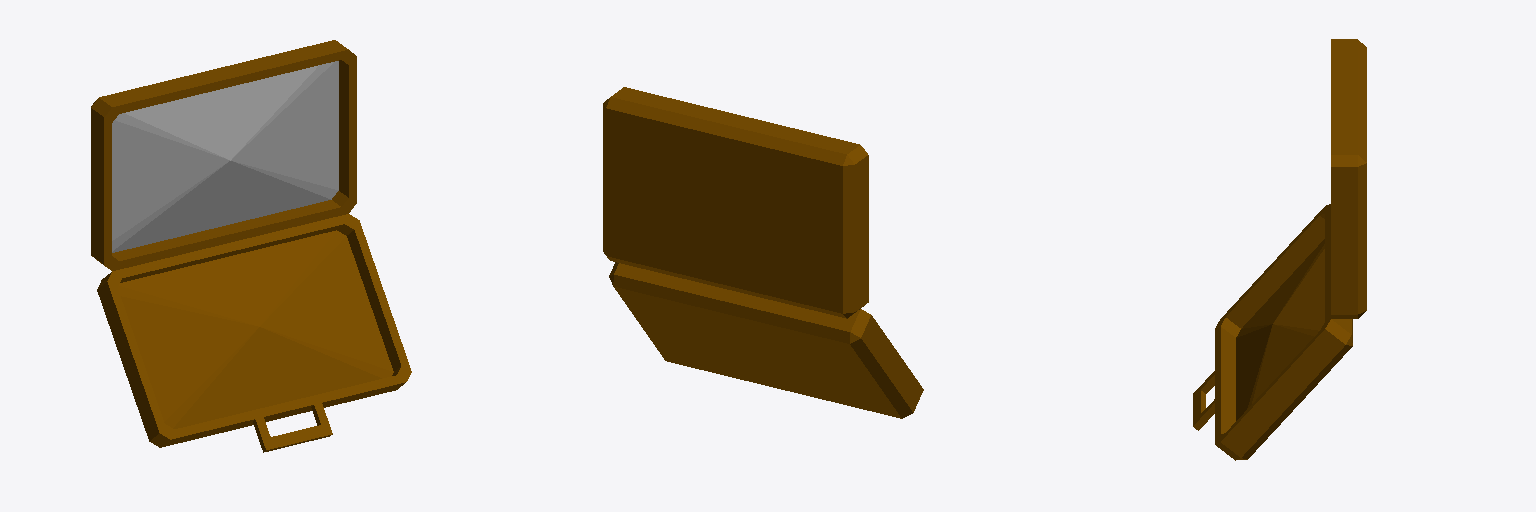
Rendered from suitcase-open.obj.
3 views of the same model, side by side, from view 1: azimuth 30°, elevation 25°; view 2: azimuth 150°, elevation 25°; view 3: azimuth 270°, elevation 25° (orthographic).
Visible parts, largest first — view 1: RightSide, LeftSide; view 2: LeftSide, RightSide; view 3: RightSide, LeftSide.
Boxes of the visible parts, <box> form: RightSide: <box>97,214,411,452</box>; LeftSide: <box>91,40,356,270</box>; LeftSide: <box>603,87,868,318</box>; RightSide: <box>609,262,923,418</box>; RightSide: <box>1193,204,1352,460</box>; LeftSide: <box>1331,39,1366,318</box>.
Bounding box in the file's own units: 0.3217 × 0.3872 × 0.1926.